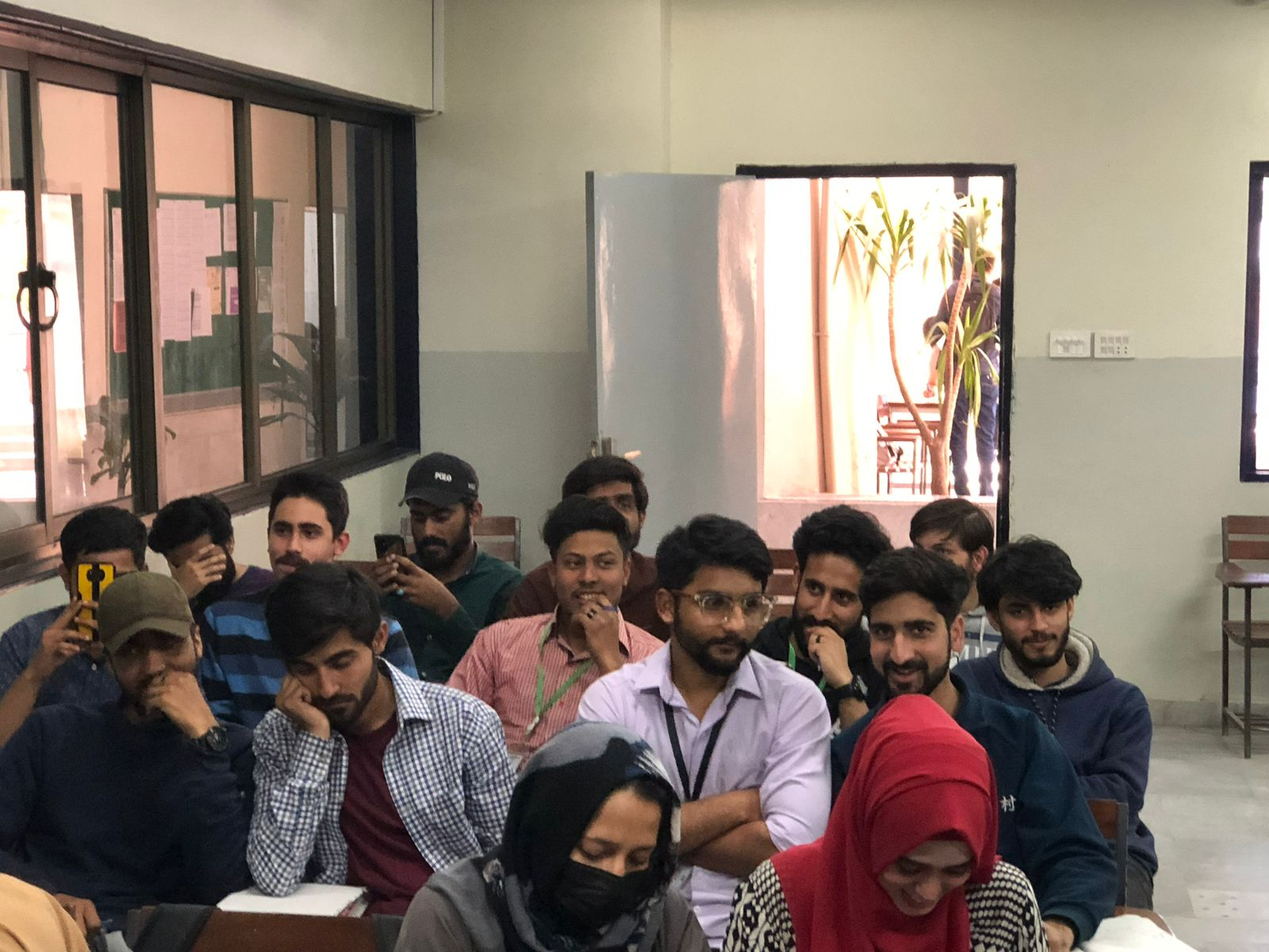non-cheating: (843, 696, 999, 921), (512, 723, 681, 930), (655, 514, 776, 673), (97, 574, 204, 718), (978, 535, 1085, 670), (791, 503, 871, 656), (402, 451, 484, 566), (267, 469, 350, 571)
phone: (57, 561, 114, 662), (372, 530, 417, 602)
